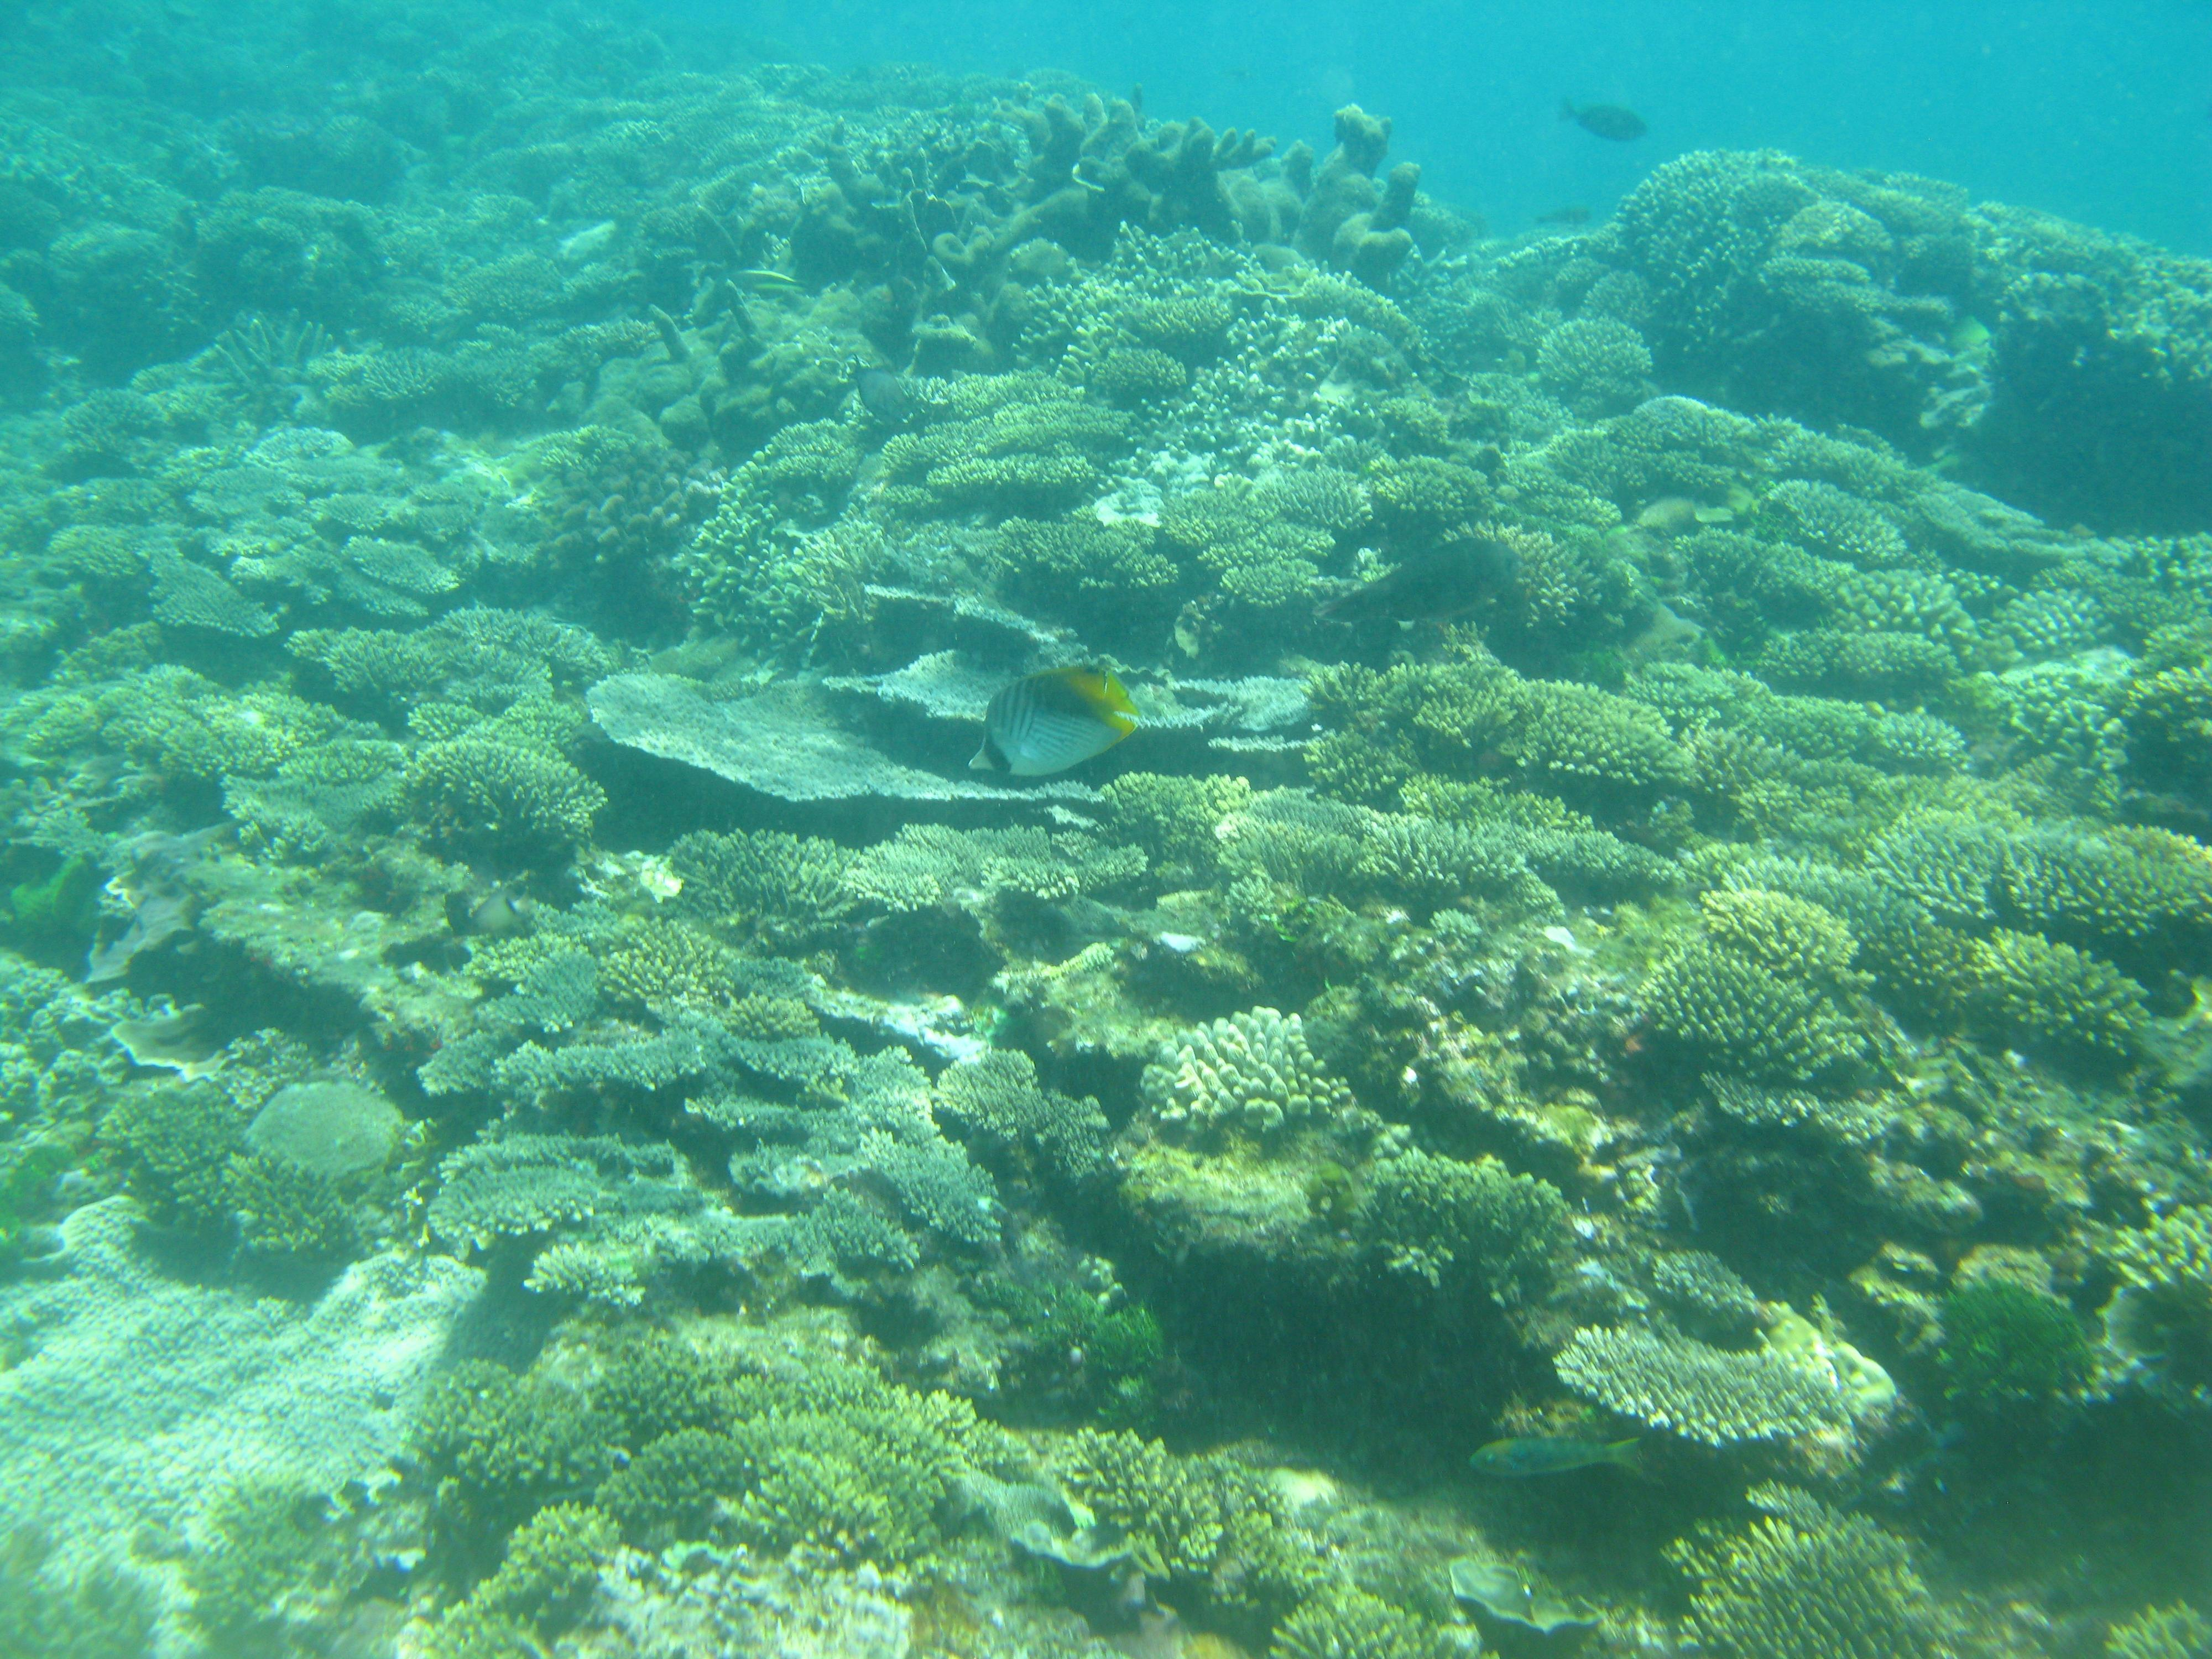Fish: (930, 631, 1238, 863)
